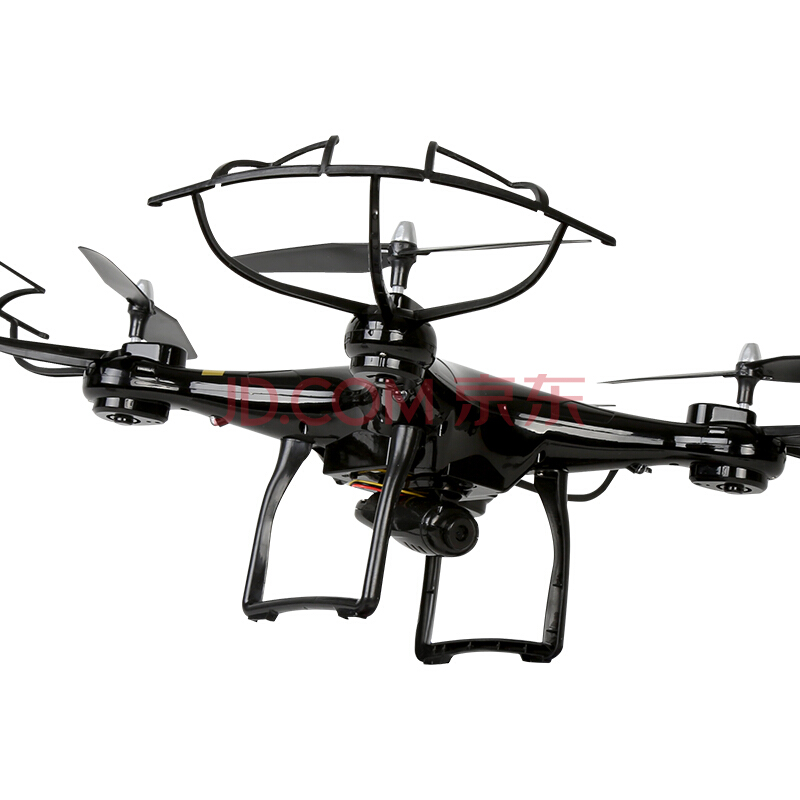drone: (1, 132, 800, 670)
